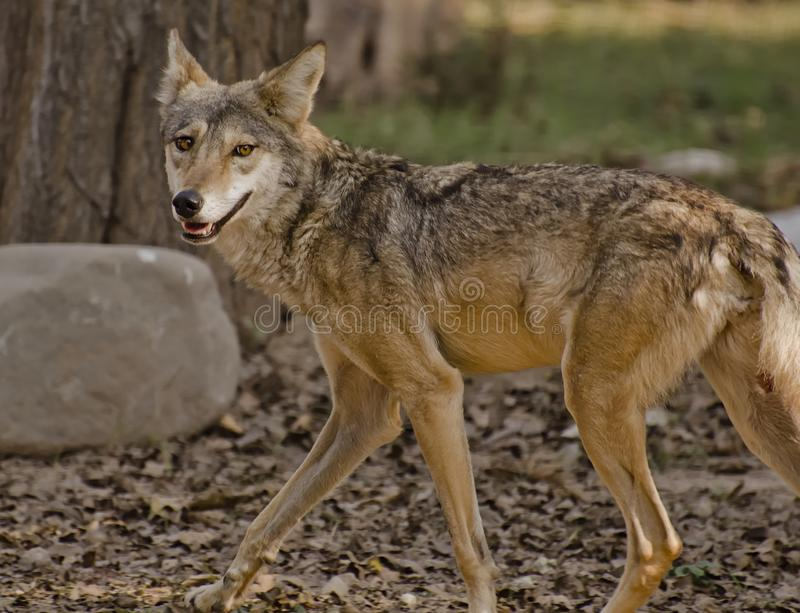wolf: (155, 26, 800, 604)
